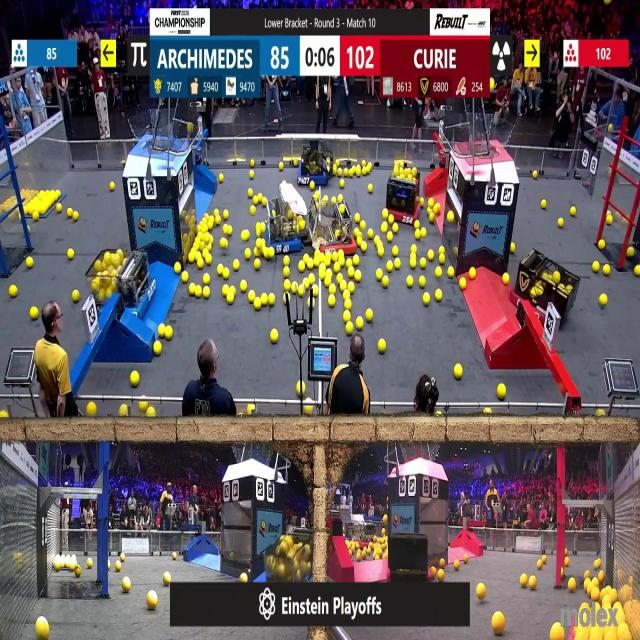ball_airborne: (186, 124, 193, 134)
ball_ground: (492, 614, 505, 636), (35, 618, 48, 640), (147, 592, 157, 610), (552, 625, 564, 640), (478, 586, 487, 602), (454, 363, 463, 378), (89, 404, 98, 418), (497, 384, 505, 399), (132, 372, 140, 387), (379, 340, 387, 354), (153, 342, 161, 356), (122, 579, 130, 593), (271, 331, 279, 344), (568, 580, 576, 593), (346, 322, 354, 335), (591, 589, 599, 602), (265, 248, 274, 259), (529, 575, 536, 589), (9, 285, 17, 297), (354, 270, 362, 282), (72, 290, 80, 302), (119, 406, 127, 418), (364, 310, 372, 322), (520, 574, 528, 586), (244, 248, 252, 260), (268, 292, 276, 304), (423, 292, 430, 305), (166, 326, 173, 339), (146, 408, 154, 419), (348, 281, 356, 292), (438, 569, 446, 580), (203, 286, 210, 298), (31, 308, 38, 320), (226, 292, 233, 304), (27, 256, 34, 268), (165, 572, 172, 584), (434, 289, 441, 301), (181, 272, 188, 284), (194, 284, 201, 296), (382, 276, 389, 288), (253, 300, 260, 312), (356, 318, 363, 330), (290, 282, 297, 294), (159, 324, 166, 336), (262, 293, 269, 305), (242, 232, 250, 242), (305, 408, 313, 418), (419, 277, 426, 288), (603, 266, 610, 277), (68, 249, 75, 260), (348, 269, 355, 280), (448, 268, 455, 279), (353, 255, 360, 266), (253, 261, 260, 272), (468, 269, 475, 280), (198, 260, 205, 271), (339, 254, 346, 265), (502, 274, 508, 286), (204, 274, 210, 286), (408, 276, 414, 288), (460, 278, 466, 290), (241, 280, 247, 292), (296, 382, 302, 394), (248, 290, 254, 302), (252, 248, 260, 257), (394, 260, 401, 270), (344, 312, 351, 322), (598, 240, 605, 250), (345, 301, 352, 311), (188, 284, 195, 294), (220, 239, 227, 249), (187, 252, 194, 262), (222, 270, 229, 280), (308, 262, 315, 272), (420, 258, 427, 268), (328, 284, 335, 294), (324, 277, 331, 287), (539, 200, 546, 210), (594, 263, 600, 274), (284, 280, 290, 291), (174, 264, 180, 275), (377, 270, 383, 281), (435, 268, 441, 279), (284, 268, 290, 279), (328, 295, 334, 306), (428, 250, 434, 261), (511, 243, 517, 254), (216, 266, 222, 277), (606, 214, 612, 225), (75, 566, 81, 577), (388, 213, 394, 224), (382, 209, 388, 220), (192, 239, 198, 250), (594, 560, 601, 569), (346, 257, 353, 266), (205, 234, 212, 243), (230, 285, 237, 294), (600, 294, 606, 304), (298, 264, 304, 274), (235, 262, 241, 272), (284, 255, 290, 265), (242, 572, 248, 582), (448, 212, 454, 222), (558, 218, 564, 228), (387, 233, 393, 243), (387, 263, 393, 273), (298, 286, 304, 296), (140, 400, 146, 410), (313, 286, 319, 296), (628, 247, 634, 257), (361, 242, 367, 252), (411, 260, 417, 270), (222, 210, 228, 220), (115, 562, 121, 572), (206, 254, 212, 264), (68, 208, 74, 218), (226, 224, 232, 234), (382, 222, 388, 232), (319, 270, 325, 280), (341, 282, 347, 292), (56, 190, 62, 200), (376, 237, 382, 247), (331, 252, 337, 262), (411, 245, 418, 253), (354, 230, 361, 238), (597, 411, 604, 419), (635, 267, 640, 278), (247, 407, 252, 418), (570, 207, 576, 216), (392, 247, 398, 256), (218, 174, 224, 183), (392, 223, 398, 232), (250, 206, 256, 215), (564, 558, 570, 567), (338, 274, 344, 283), (454, 561, 460, 570), (57, 204, 63, 213), (307, 275, 313, 284), (335, 264, 341, 273), (338, 193, 344, 202), (432, 205, 438, 214), (263, 199, 269, 208), (255, 230, 261, 239), (314, 191, 320, 200), (344, 291, 350, 300), (367, 230, 372, 240), (355, 213, 360, 223), (536, 560, 541, 570), (222, 285, 227, 295), (283, 292, 288, 302), (421, 227, 426, 237), (378, 248, 384, 256), (172, 553, 178, 561), (340, 182, 346, 190), (256, 240, 262, 248), (428, 214, 434, 222), (110, 182, 116, 190), (415, 220, 421, 228), (208, 222, 214, 230), (314, 250, 320, 258), (215, 216, 221, 224), (200, 242, 206, 250), (255, 222, 261, 230), (361, 168, 367, 176), (356, 238, 362, 246), (541, 556, 547, 564), (338, 168, 344, 176), (327, 260, 333, 268), (441, 254, 446, 263), (249, 171, 254, 180), (73, 212, 78, 221), (416, 231, 421, 240), (532, 171, 537, 180), (356, 168, 361, 177), (360, 220, 365, 229), (441, 559, 446, 568), (257, 193, 262, 202), (307, 185, 313, 192), (0, 413, 6, 420), (441, 246, 446, 254), (463, 555, 468, 563), (89, 560, 94, 568), (279, 164, 284, 172), (428, 200, 433, 208), (344, 169, 349, 177), (420, 199, 425, 207), (262, 224, 267, 232), (586, 569, 591, 577), (252, 198, 257, 206), (485, 410, 491, 416), (435, 412, 441, 418), (367, 184, 371, 192), (248, 188, 252, 196), (108, 562, 112, 570), (564, 550, 568, 558), (560, 568, 564, 576), (356, 556, 361, 562), (120, 555, 124, 562), (293, 160, 297, 167), (250, 161, 254, 168), (208, 244, 212, 251), (305, 254, 309, 261), (326, 197, 330, 204)
goal: (461, 117, 517, 158), (129, 115, 187, 152)
robot_blue: (86, 248, 156, 326), (266, 202, 306, 254), (298, 141, 334, 188)
robot_red: (513, 255, 577, 330), (312, 203, 355, 254), (386, 158, 420, 222)
